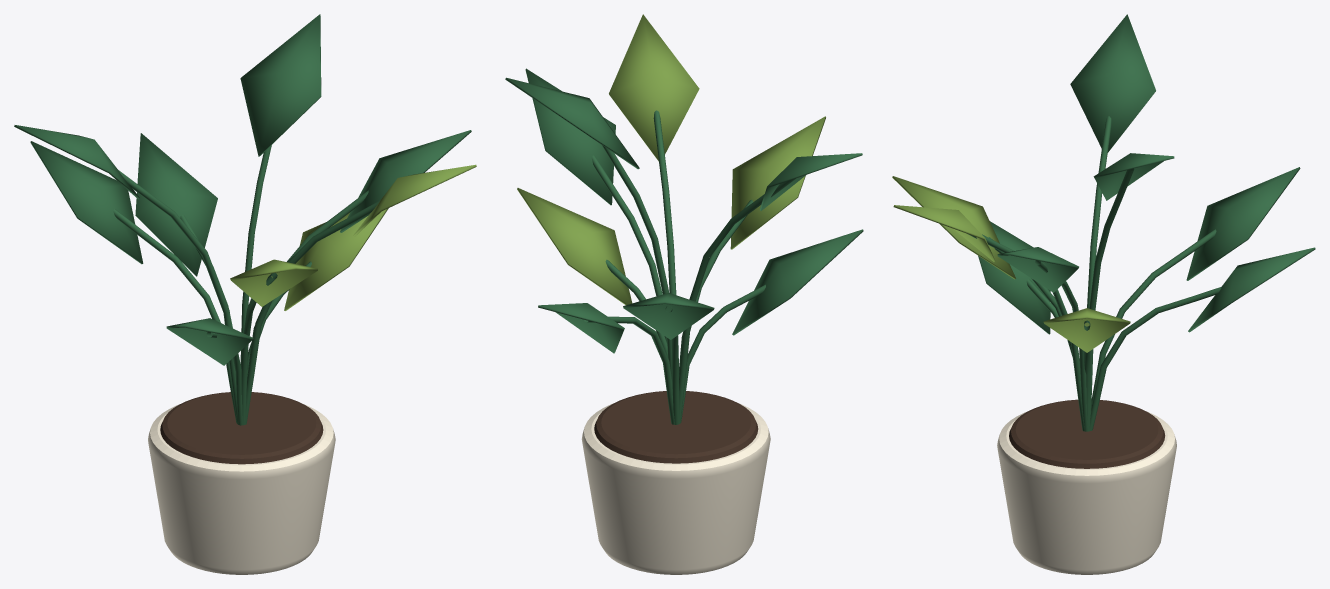
File: plant.glb
3 renders of one model, left to right at view 1: azimuth 30°, elevation 25°; view 2: azimuth 150°, elevation 25°; view 3: azimuth 270°, elevation 25°, orthographic. The views are drawn at different scales.
Parts seen in each view (by area): view 1: Shared table plant pot, Shared table plant soil, Shared table plant leaf.005, Shared table plant leaf.002, Shared table plant leaf.007, Shared table plant leaf, Shared table plant leaf.008, Shared table plant leaf.006, Shared table plant leaf.001, Shared table plant leaf.004, Shared table plant leaf.003, Shared table plant stem.004 (+5 smaller); view 2: Shared table plant pot, Shared table plant soil, Shared table plant leaf.003, Shared table plant leaf, Shared table plant leaf.006, Shared table plant leaf.001, Shared table plant leaf.008, Shared table plant leaf.005, Shared table plant leaf.007, Shared table plant leaf.002, Shared table plant stem.004, Shared table plant leaf.004 (+8 smaller); view 3: Shared table plant pot, Shared table plant soil, Shared table plant leaf.004, Shared table plant leaf.007, Shared table plant leaf.001, Shared table plant leaf.006, Shared table plant leaf.002, Shared table plant leaf, Shared table plant leaf.008, Shared table plant leaf.005, Shared table plant leaf.003, Shared table plant stem.002 (+5 smaller).
Boxes of the visible parts, box(x1,y1,x2,y2) form: Shared table plant pot: box(148, 404, 335, 574); Shared table plant soil: box(160, 392, 323, 464); Shared table plant leaf.005: box(240, 14, 321, 156); Shared table plant leaf.002: box(135, 133, 217, 276); Shared table plant leaf.007: box(30, 141, 143, 264); Shared table plant leaf: box(284, 208, 388, 310); Shared table plant leaf.008: box(340, 130, 471, 232); Shared table plant leaf.006: box(230, 259, 317, 306); Shared table plant leaf.001: box(166, 318, 253, 365); Shared table plant leaf.004: box(14, 125, 139, 199); Shared table plant leaf.003: box(353, 164, 476, 236); Shared table plant stem.004: box(118, 170, 238, 424); Shared table plant pot: box(581, 403, 770, 574); Shared table plant soil: box(594, 391, 758, 463); Shared table plant leaf.003: box(609, 14, 699, 161); Shared table plant leaf: box(517, 188, 632, 305); Shared table plant leaf.006: box(730, 116, 825, 249); Shared table plant leaf.001: box(732, 229, 863, 335); Shared table plant leaf.008: box(525, 68, 615, 205); Shared table plant leaf.005: box(505, 77, 639, 169); Shared table plant leaf.007: box(623, 293, 714, 339); Shared table plant leaf.002: box(538, 303, 624, 353); Shared table plant stem.004: box(679, 178, 795, 423); Shared table plant leaf.004: box(759, 153, 862, 210); Shared table plant pot: box(997, 412, 1176, 574); Shared table plant soil: box(1009, 399, 1165, 468); Shared table plant leaf.004: box(1070, 14, 1155, 152); Shared table plant leaf.007: box(1186, 167, 1300, 280); Shared table plant leaf.001: box(978, 221, 1050, 334); Shared table plant leaf.006: box(892, 176, 1015, 279); Shared table plant leaf.002: box(1188, 247, 1315, 332); Shared table plant leaf: box(1043, 308, 1130, 352); Shared table plant leaf.008: box(997, 247, 1078, 292); Shared table plant leaf.005: box(1093, 153, 1174, 200); Shared table plant leaf.003: box(893, 205, 995, 261); Shared table plant stem.002: box(1089, 287, 1221, 430).
Size of the model in its own units: 0.814 by 0.9212 by 0.786.
